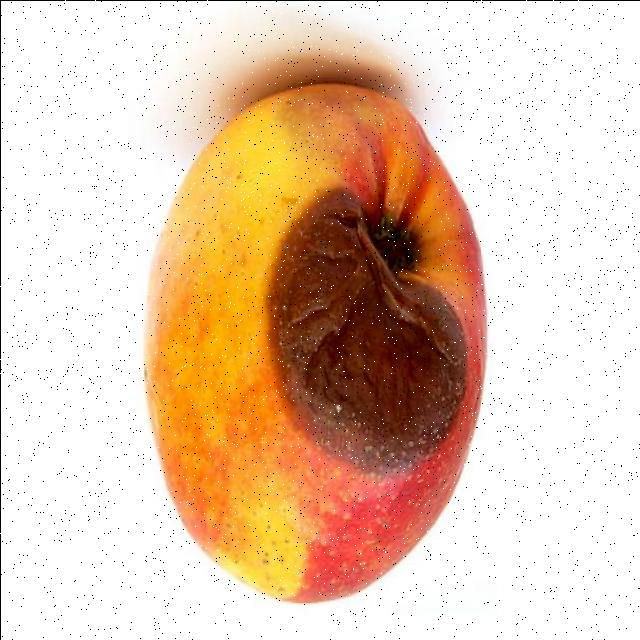ROT: (124, 55, 511, 604)
